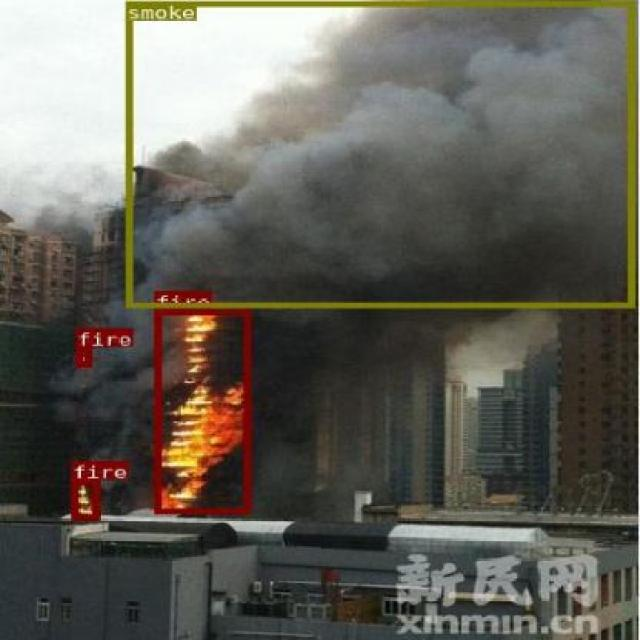fire: (154, 308, 248, 512), (70, 478, 98, 518), (75, 345, 91, 367)
smoke: (124, 1, 634, 307)
